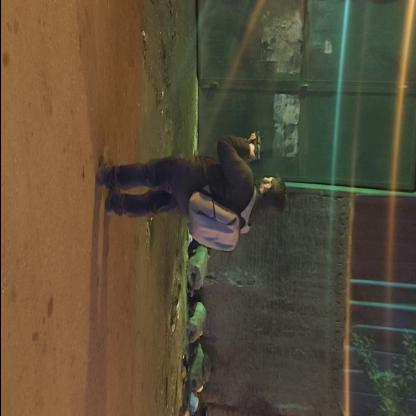long weapon: (240, 115, 268, 168)
